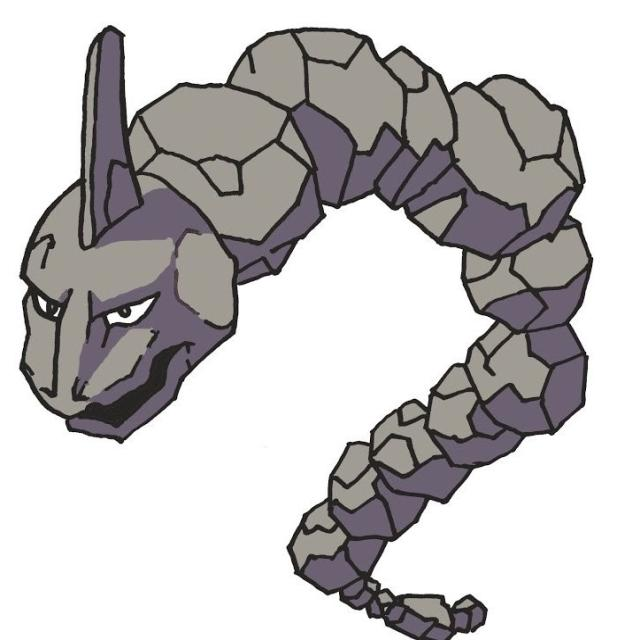Onix: (17, 24, 588, 450)
